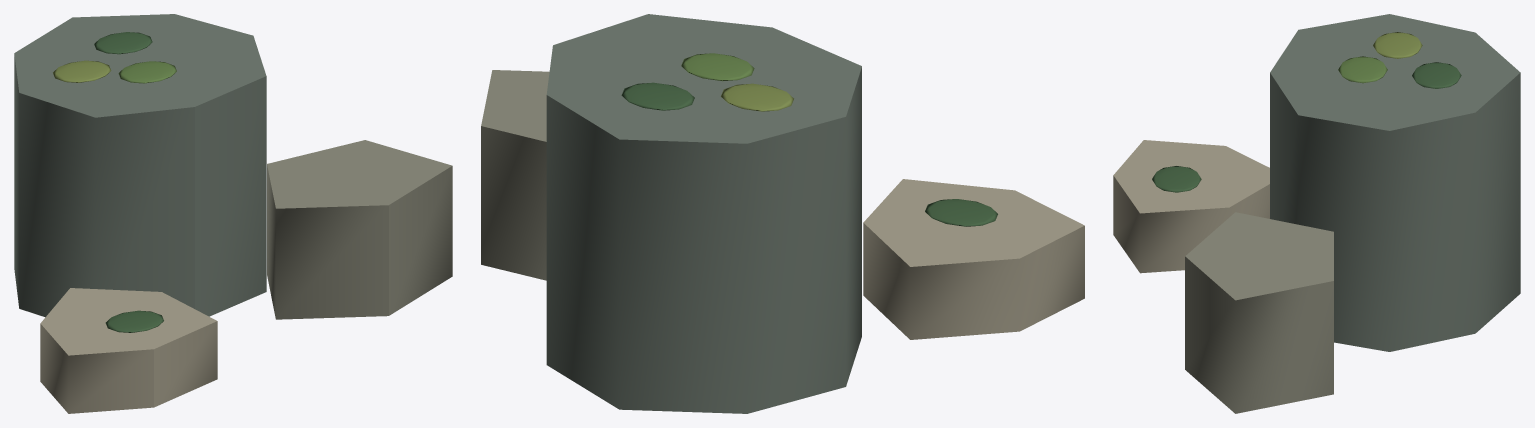
3 renders of one model, left to right at view 1: azimuth 30°, elevation 25°; view 2: azimuth 150°, elevation 25°; view 3: azimuth 270°, elevation 25°, orthographic. The views are drawn at different scales.
Visible parts, largest first — view 1: climb-rocks-11-0, climb-rocks-11-1, climb-rocks-11-2, 바위 12; view 2: climb-rocks-11-0, climb-rocks-11-2, climb-rocks-11-1, 바위 12; view 3: climb-rocks-11-0, climb-rocks-11-1, climb-rocks-11-2, 바위 12.
Boxes of the visible parts, bbox=[...] form: climb-rocks-11-0: bbox=[14, 14, 266, 317]; climb-rocks-11-1: bbox=[267, 140, 452, 319]; climb-rocks-11-2: bbox=[40, 288, 217, 413]; 바위 12: bbox=[53, 32, 176, 332]; climb-rocks-11-0: bbox=[546, 14, 861, 413]; climb-rocks-11-2: bbox=[863, 179, 1084, 339]; climb-rocks-11-1: bbox=[481, 70, 549, 280]; 바위 12: bbox=[621, 53, 997, 226]; climb-rocks-11-0: bbox=[1270, 14, 1520, 351]; climb-rocks-11-1: bbox=[1185, 212, 1333, 413]; climb-rocks-11-2: bbox=[1113, 140, 1269, 273]; 바위 12: bbox=[1152, 32, 1461, 192].
Bounding box in the file's own units: 3.66 × 1.79 × 2.94.
